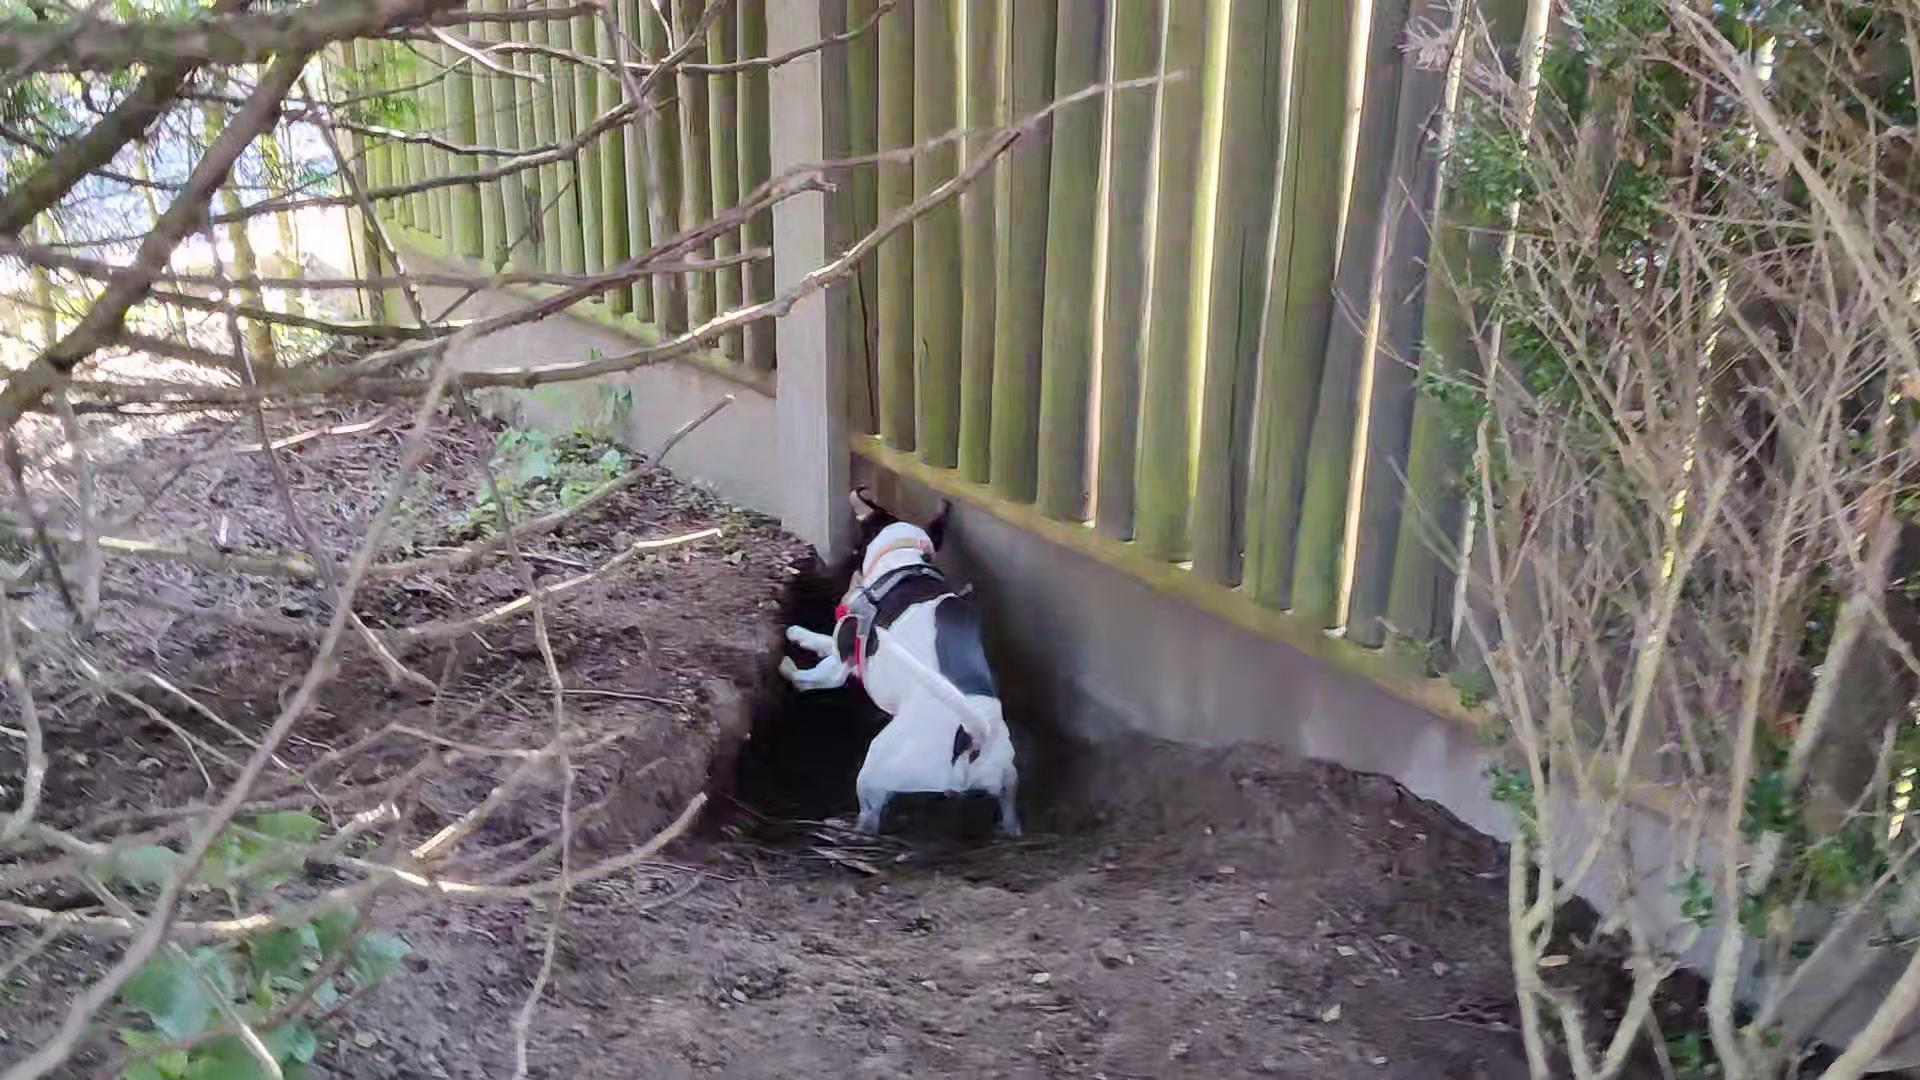Dog: (761, 463, 1059, 847)
